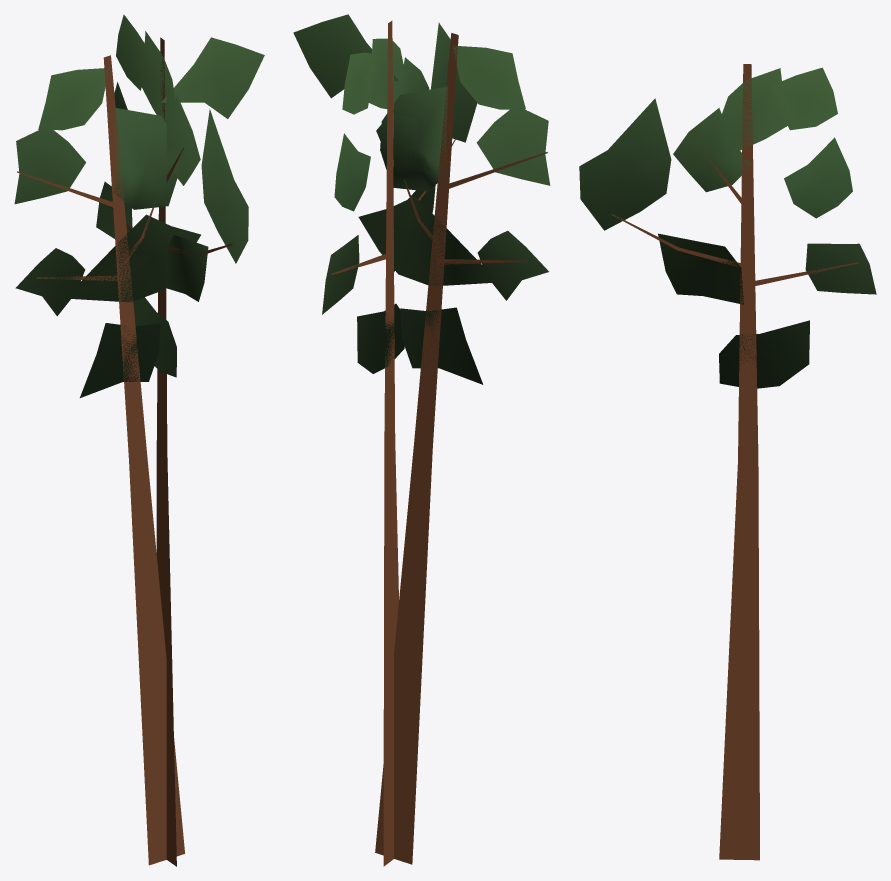
The model's file is pine-c.card.glb.
3 renders of one model, left to right at view 1: azimuth 30°, elevation 25°; view 2: azimuth 150°, elevation 25°; view 3: azimuth 270°, elevation 25°, orthographic. The views are drawn at different scales.
Bounding box in the file's own units: 4.47 × 13.99 × 4.72.
